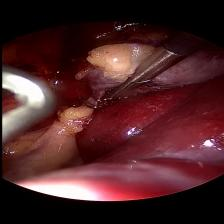Grasper: (0, 65, 59, 141), (97, 78, 151, 103)
